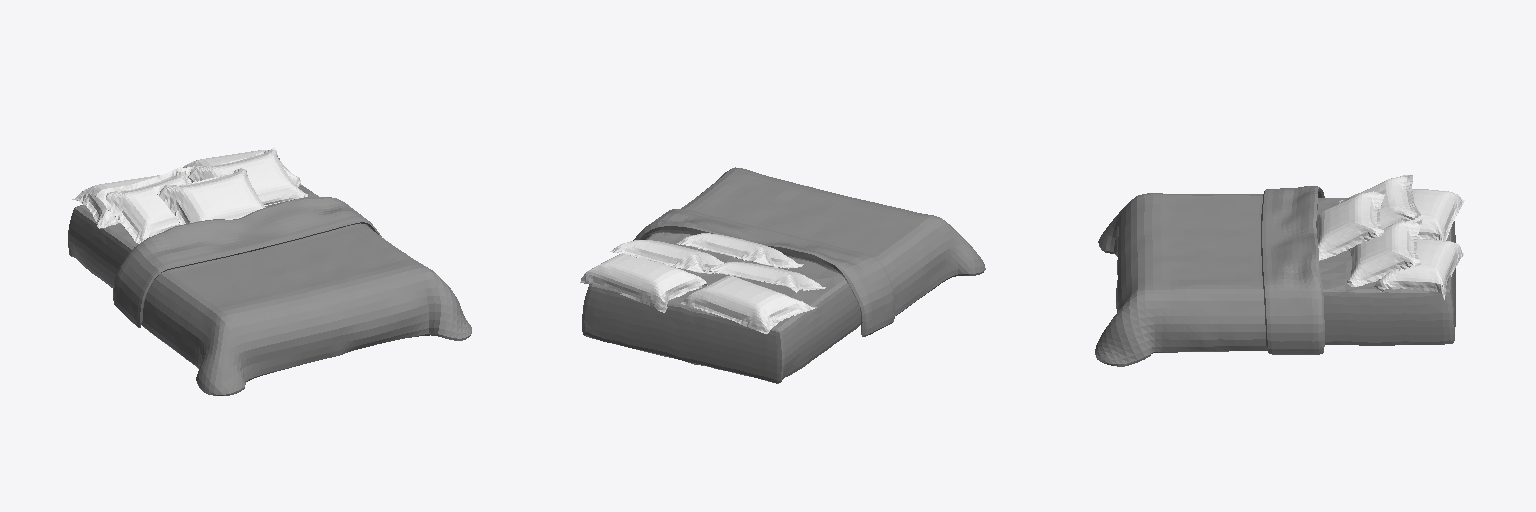
3 renders of one model, left to right at view 1: azimuth 30°, elevation 25°; view 2: azimuth 150°, elevation 25°; view 3: azimuth 270°, elevation 25°, orthographic.
Visible parts, largest first — view 1: goldenmouse_bed, AlmMedia, Alm; view 2: goldenmouse_bed, AlmMedia, Alm; view 3: goldenmouse_bed, AlmMedia, Alm.
Boxes of the visible parts, x1=… form: goldenmouse_bed: x1=68, y1=150, x2=471, y2=395; AlmMedia: x1=153, y1=166, x2=265, y2=224; Alm: x1=184, y1=147, x2=307, y2=205; goldenmouse_bed: x1=580, y1=167, x2=985, y2=383; AlmMedia: x1=676, y1=233, x2=803, y2=268; Alm: x1=610, y1=240, x2=723, y2=273; goldenmouse_bed: x1=1095, y1=175, x2=1464, y2=366; AlmMedia: x1=1316, y1=189, x2=1385, y2=260; Alm: x1=1347, y1=219, x2=1422, y2=286.
Bounding box in the file's own units: 9.95 × 3.26 × 11.85.
Materials: 2 (1 with a texture image).